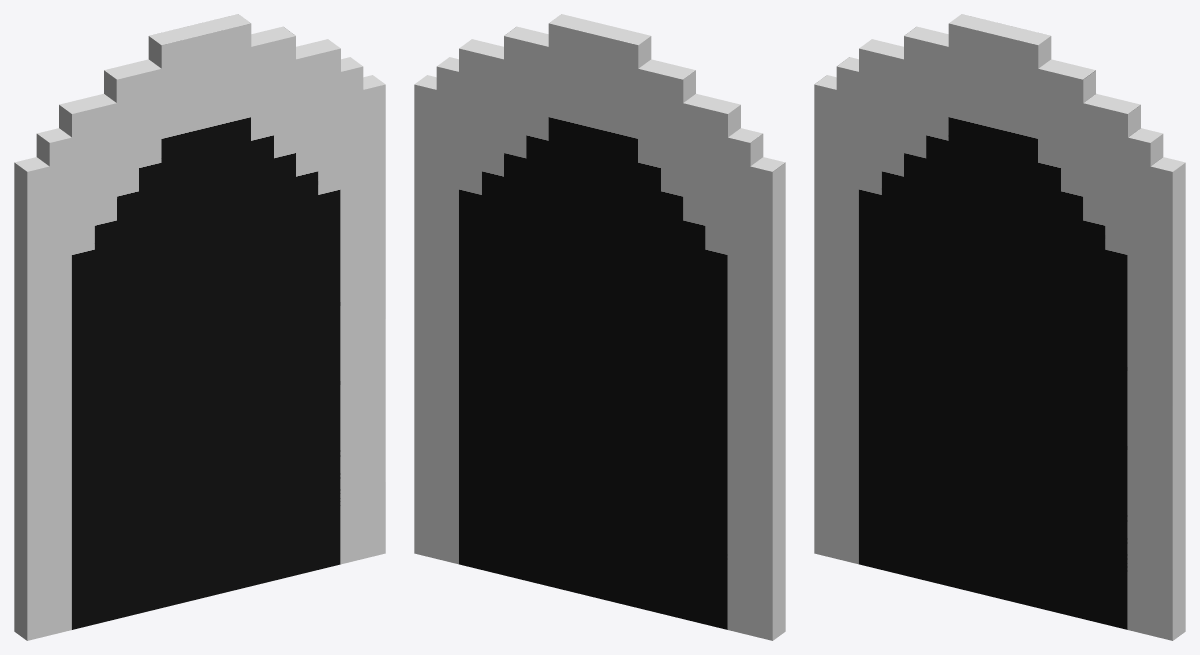
The model's file is clear_door.obj.
3 renders of one model, left to right at view 1: azimuth 30°, elevation 25°; view 2: azimuth 150°, elevation 25°; view 3: azimuth 330°, elevation 25°, orthographic.
Visible parts, largest first — view 1: door_chuto2_door_chuto2.001; view 2: door_chuto2_door_chuto2.001; view 3: door_chuto2_door_chuto2.001.
Part boxes in pixels (x1,y1,x2,y2): door_chuto2_door_chuto2.001: (14, 14, 385, 640); door_chuto2_door_chuto2.001: (414, 14, 785, 640); door_chuto2_door_chuto2.001: (814, 14, 1185, 640).
Bounding box in the file's own units: 1.6 × 2.4 × 0.1.
